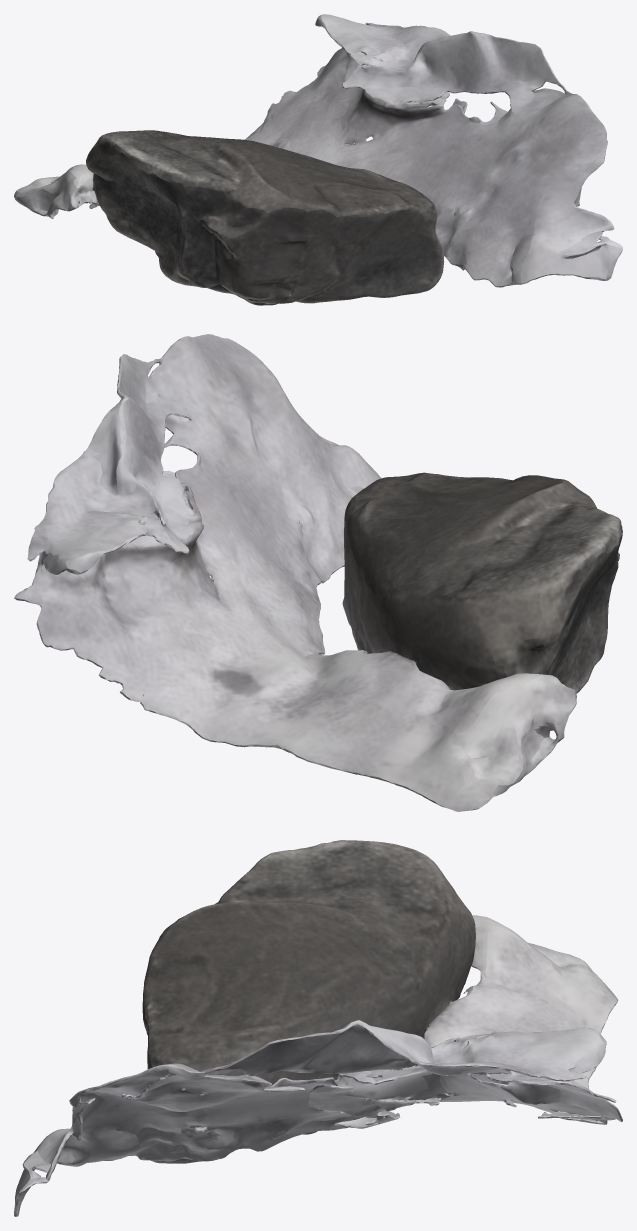
The picture shows the model from 3 angles, top to bottom: view 1: azimuth 30°, elevation 25°; view 2: azimuth 150°, elevation 25°; view 3: azimuth 270°, elevation 25°; orthographic projection. The views are drawn at different scales.
Visible parts, largest first — view 1: world; view 2: world; view 3: world.
Boxes of the visible parts, <box> form: world: <box>14,14,622,305</box>; world: <box>14,334,622,811</box>; world: <box>14,840,622,1216</box>.
Size of the model in its own units: 3.5 by 1.42 by 3.49.
Materials: 1 (1 with a texture image).
